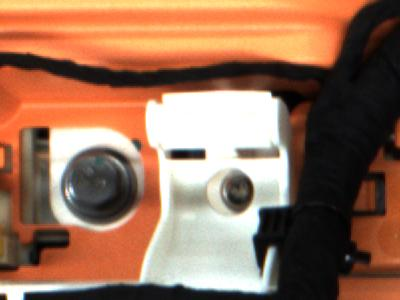nut_b: (56, 143, 142, 228)
